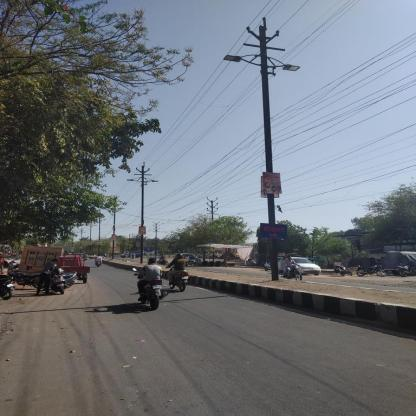Electrical Pole: (226, 14, 321, 278)
